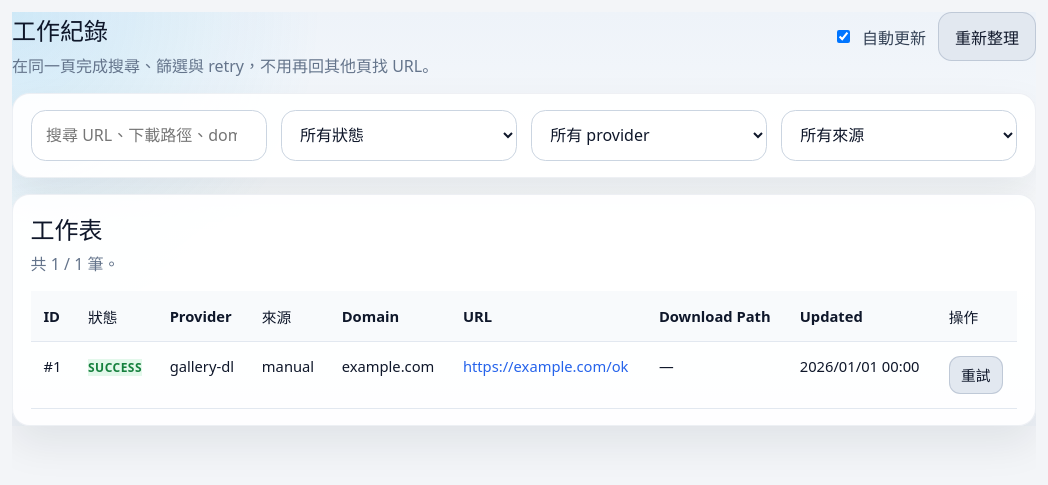
Test case: JobsView › search with no match shows the empty state, not a stale row
Type "no-such-term" into the search field with placeholder "搜尋 URL、下載路徑、domain、錯誤訊息..." at (149, 135), box x1=31 y1=110 x2=267 y2=160
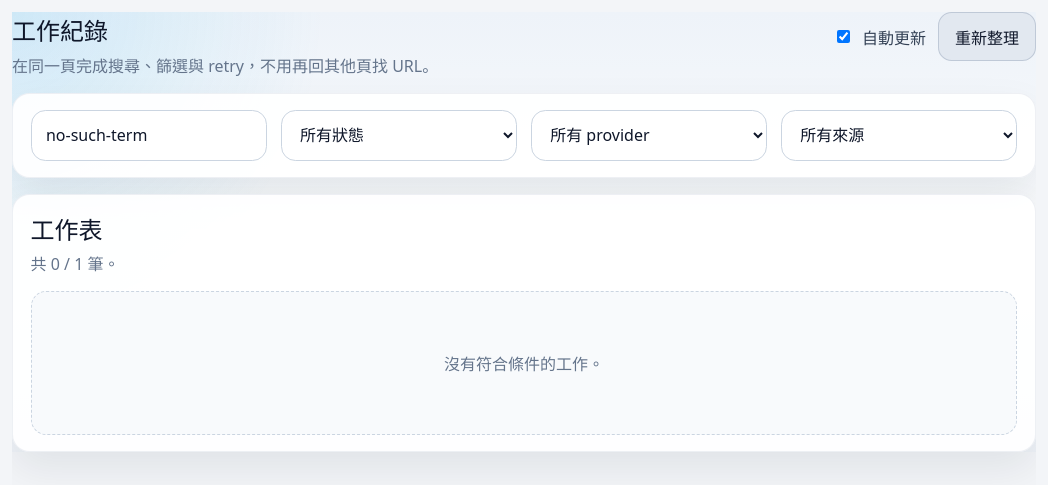
Expected: the text "沒有符合條件的工作。" is shown, x1=31 y1=291 x2=1017 y2=435
Expected: no rows are shown
